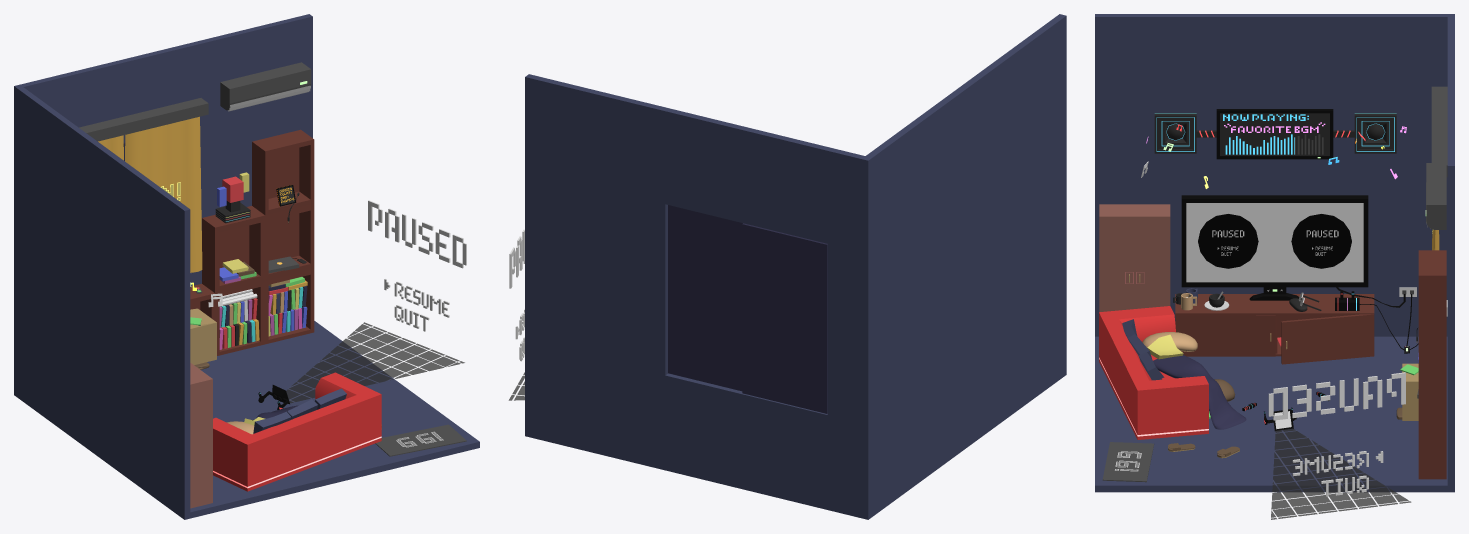
File: entertainment-room.fbx
3 views of the same model, side by side, from view 1: azimuth 30°, elevation 25°; view 2: azimuth 150°, elevation 25°; view 3: azimuth 270°, elevation 25° (orthographic). The views are drawn at different scales.
Parts seen in each view (by area): view 1: Cube_blue.001_0, Cube.003_brown for bookshelf_0, Cube.034_couch color not sure yet_0, Plane.010_grey for wireframe with opacity_0, Plane.001_lively yellow_0, Cube.094_cabinet mat_0, Plane.007_white emissive_0, Cube.019_greyer_0, Cylinder.011_greyer_0, Cube.001_greyer_0, Cube.041_dirty yellow_0, Cube.102_cabinet mat_0 (+2 smaller); view 2: Cube_blue.001_0, Cube.032_dark blue_0, Plane.007_white emissive_0; view 3: Cube_blue.001_0, Cube.004_tv emmissive_0, Cube.034_couch color not sure yet_0, Cube.102_cabinet mat_0, Cube.003_brown for bookshelf_0, Plane.010_grey for wireframe with opacity_0, Cylinder.019_tv circle emmissive or not_0, Cube.091_brown_0, Cube.095_grey_0, Cube.093_brown_0, Cube.004_black_0, Plane.007_white emissive_0 (+15 smaller).
Part boxes in pixels (x1,y1,x2,y2): Cube_blue.001_0: (14,14,479,519); Cube.003_brown for bookshelf_0: (190,129,314,355); Cube.034_couch color not sure yet_0: (213,372,381,491); Plane.010_grey for wireframe with opacity_0: (286,322,464,403); Plane.001_lively yellow_0: (125,116,202,272); Cube.094_cabinet mat_0: (190,363,212,508); Plane.007_white emissive_0: (368,200,466,331); Cube.019_greyer_0: (220,62,311,110); Cylinder.011_greyer_0: (79,98,208,141); Cube.001_greyer_0: (375,424,466,456); Cube.041_dirty yellow_0: (190,308,216,364); Cube.102_cabinet mat_0: (190,363,212,503); Cube_blue.001_0: (525,14,1066,519); Cube.032_dark blue_0: (668,205,827,413); Plane.007_white emissive_0: (509,229,524,361); Cube_blue.001_0: (1095,14,1454,492); Cube.004_tv emmissive_0: (1186,203,1363,282); Cube.034_couch color not sure yet_0: (1099,306,1208,439); Cube.102_cabinet mat_0: (1099,214,1170,311); Cube.003_brown for bookshelf_0: (1418,250,1446,479); Plane.010_grey for wireframe with opacity_0: (1271,428,1411,519); Cylinder.019_tv circle emmissive or not_0: (1198,214,1351,268); Cube.091_brown_0: (1281,314,1373,364); Cube.095_grey_0: (1220,113,1329,155); Cube.093_brown_0: (1176,315,1275,356); Cube.004_black_0: (1181,195,1368,287); Plane.007_white emissive_0: (1268,372,1405,496).
Bounding box in the file's own units: 100267 × 81151 × 81151.
